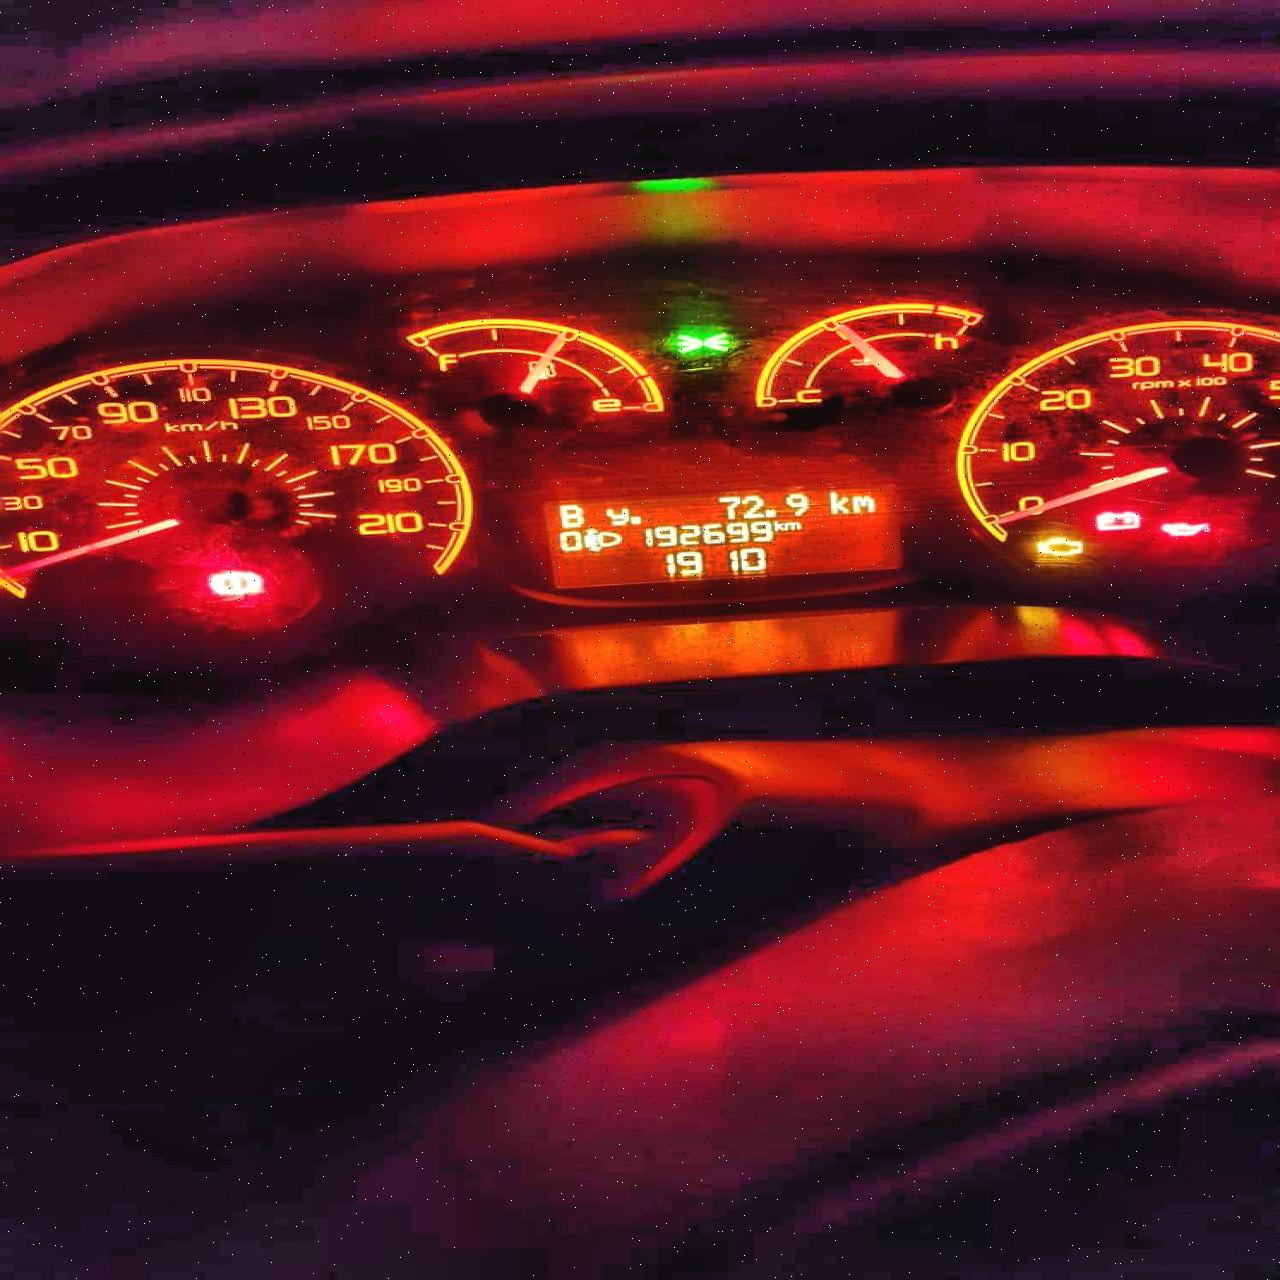-: (627, 513, 642, 524), (764, 508, 776, 519)
0: (738, 545, 768, 571), (557, 530, 583, 552)
1: (727, 547, 737, 574), (663, 551, 674, 577), (641, 524, 652, 547)
2: (738, 492, 764, 518), (679, 523, 701, 545)
6: (699, 523, 723, 545)
7: (716, 496, 738, 518)
9: (782, 491, 810, 516), (676, 551, 702, 574), (652, 524, 676, 547), (749, 519, 771, 542), (724, 522, 747, 542)
X: (554, 502, 584, 529), (826, 488, 850, 513), (850, 493, 877, 513), (602, 505, 627, 525), (783, 520, 802, 531), (772, 519, 783, 530)
odometer: (536, 481, 920, 590)
